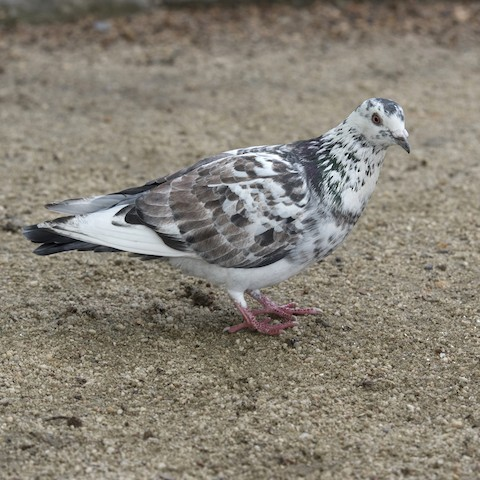pigeon: (17, 93, 419, 351)
